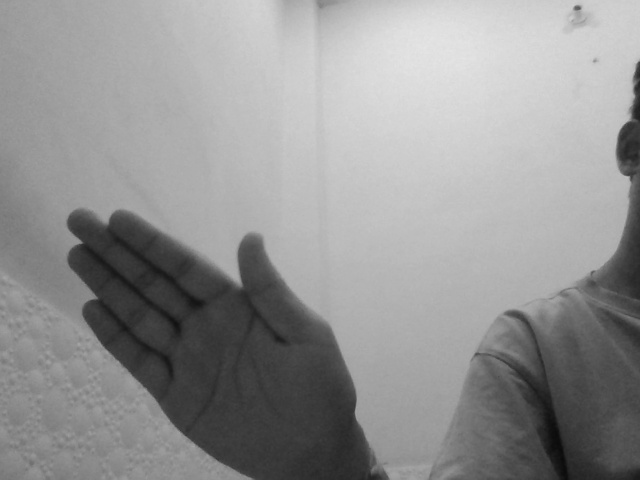Hello: (61, 201, 365, 476)
